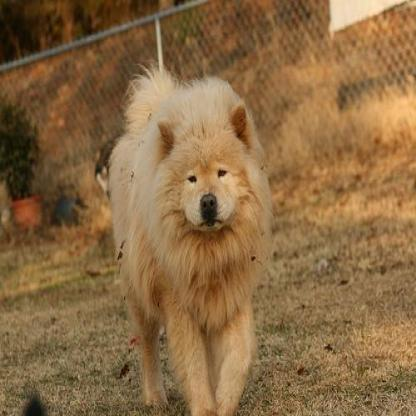chow: (106, 61, 273, 412)
